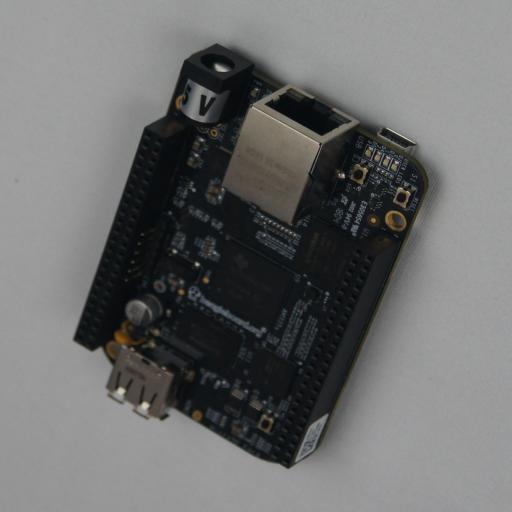Beaglebone Black: (74, 43, 438, 469)
